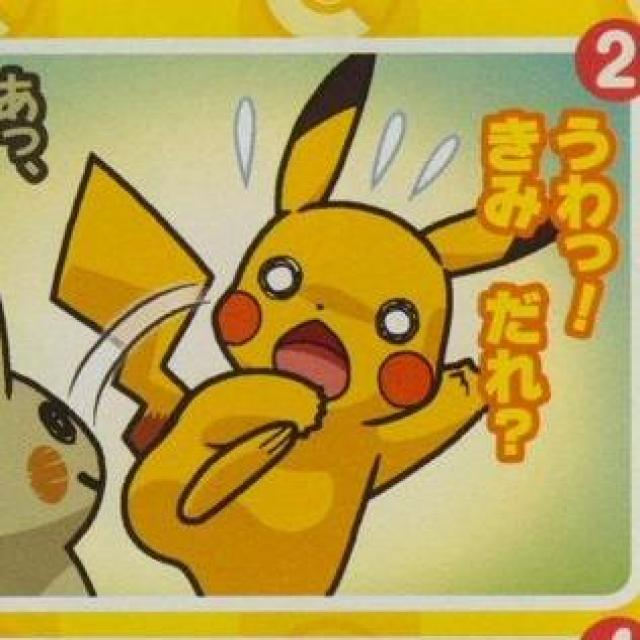pikachu: (60, 55, 563, 598)
